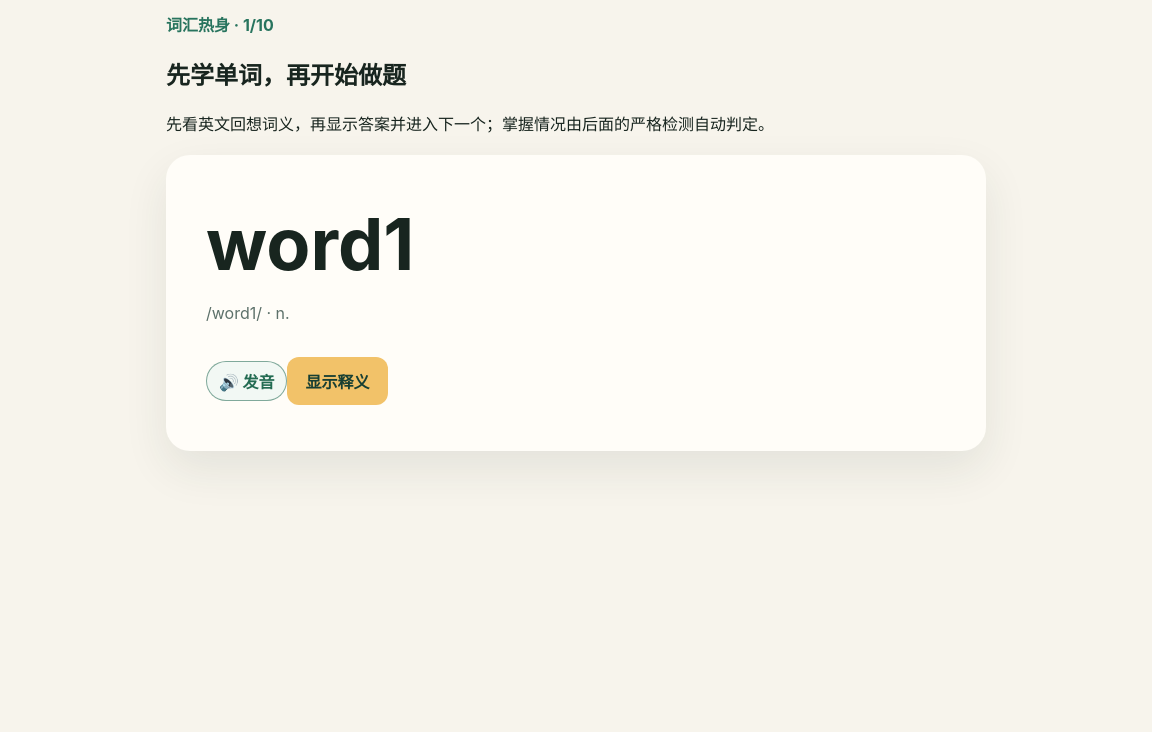
it: VocabularyWarmup › shows the English side before revealing the meaning
Check: the heading "word1" is shown, box [206, 200, 414, 287]
Check: the text "词义1" is not shown
Click the button "显示释义".
click(338, 381)  # box [288, 357, 388, 405]
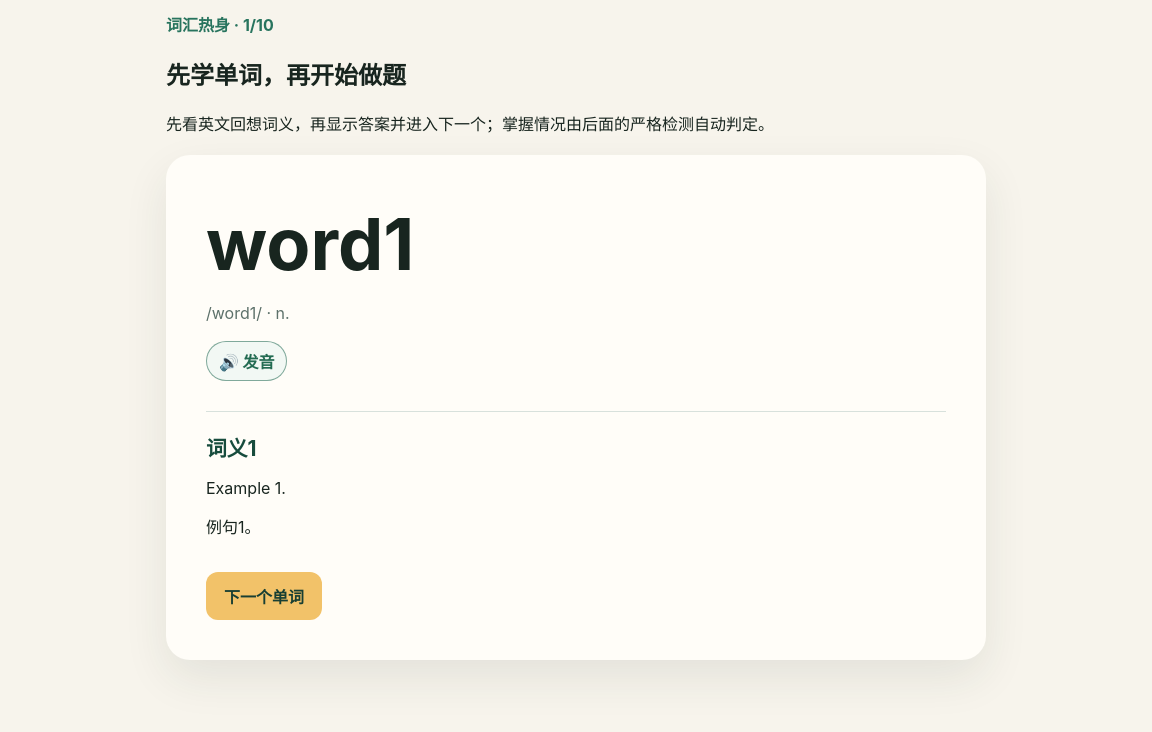
Check: the text "词义1" is shown, box [206, 436, 257, 461]
